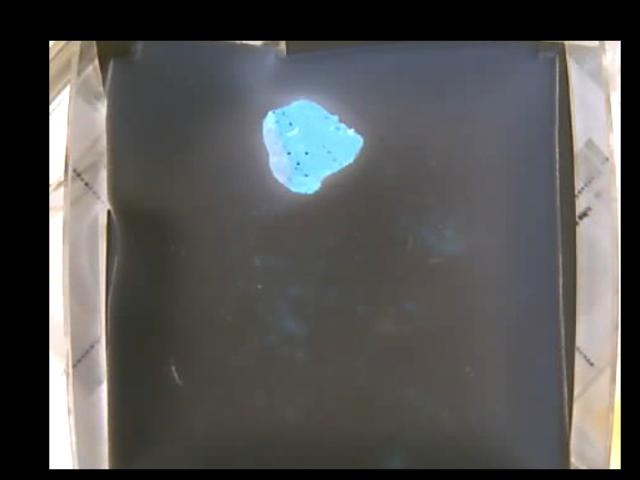Brisk: (263, 97, 361, 199)
